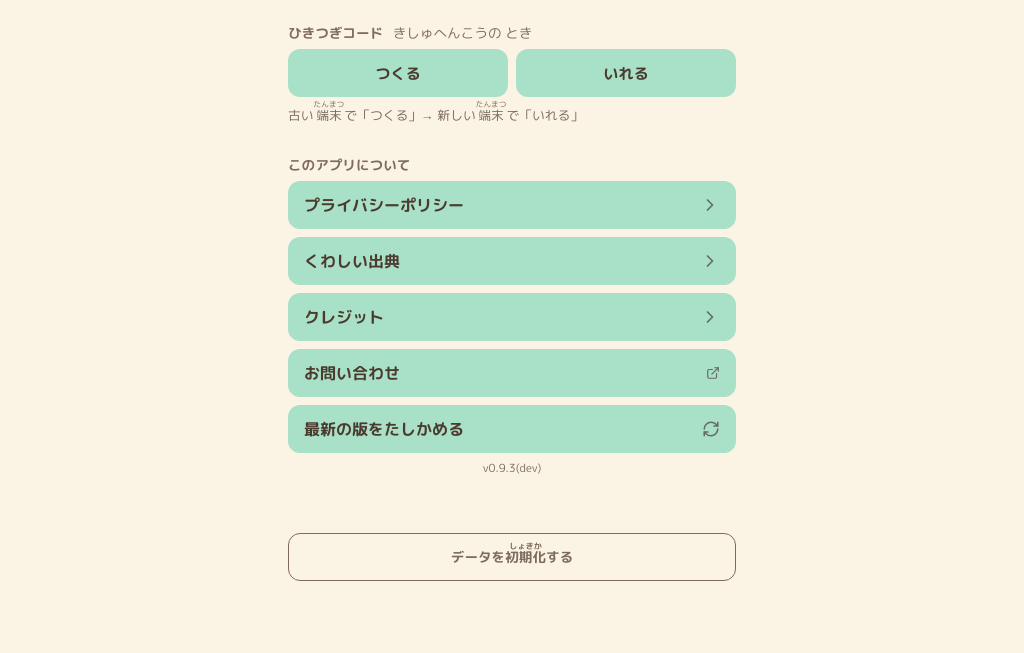
Scenario: 設定画面: データの初期化 › 「データを初期化する」を押しただけでは消さない。確認が出る
(page scrolled)
Click the button "データを 初期化 しょきか する" at [512, 557], box top-left (288, 533), bottom-right (736, 581)
(page scrolled)
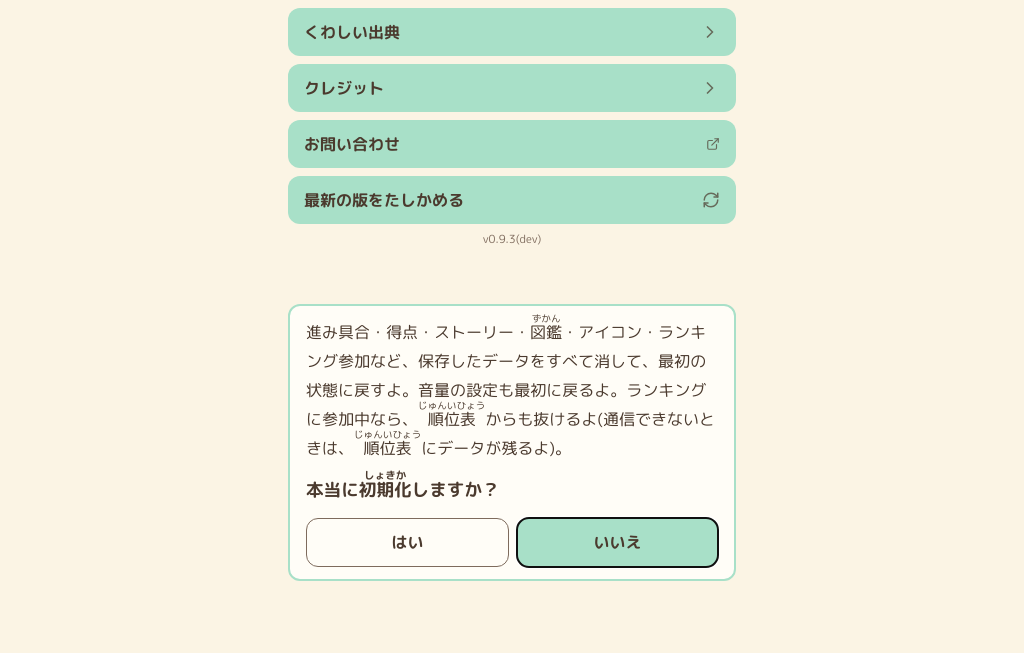
Expected: the dialog is shown, top-left (288, 304), bottom-right (736, 581)
